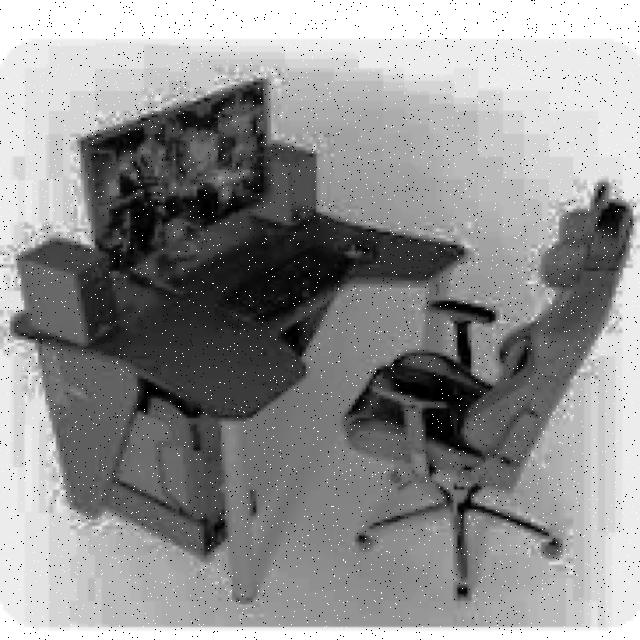book: (338, 180, 633, 600)
table: (7, 202, 468, 601)
